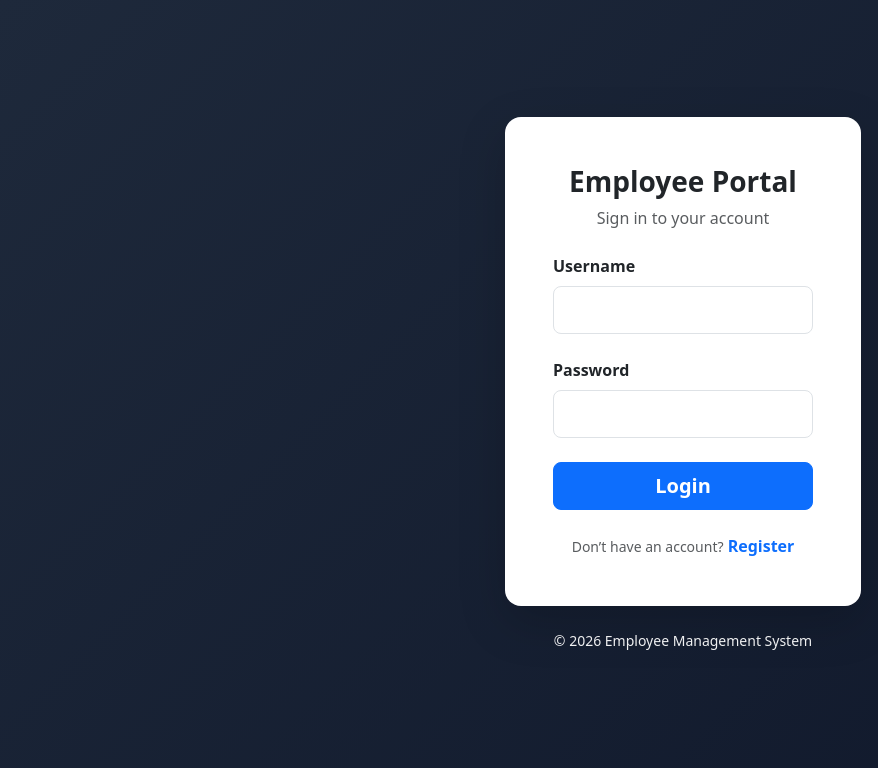
Scenario: Login Page › shows error message when login fails
In the field labelled "Username": (683, 310) left=553, top=286, right=813, bottom=334, type "wronguser"
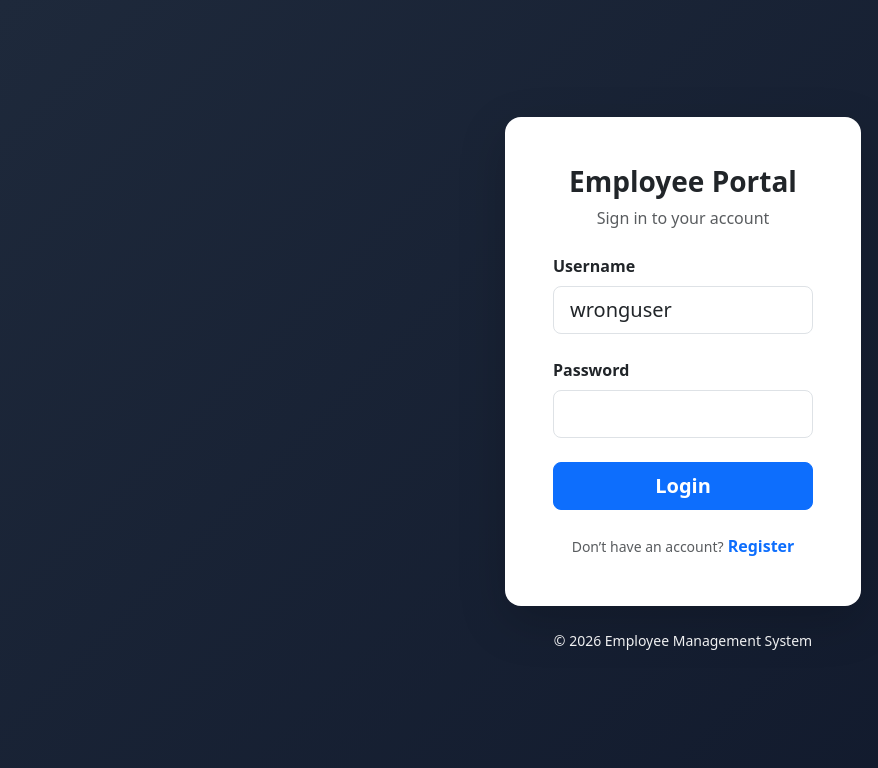
In the password field labelled "Password": (683, 414) left=553, top=390, right=813, bottom=438, type "wrongpass"
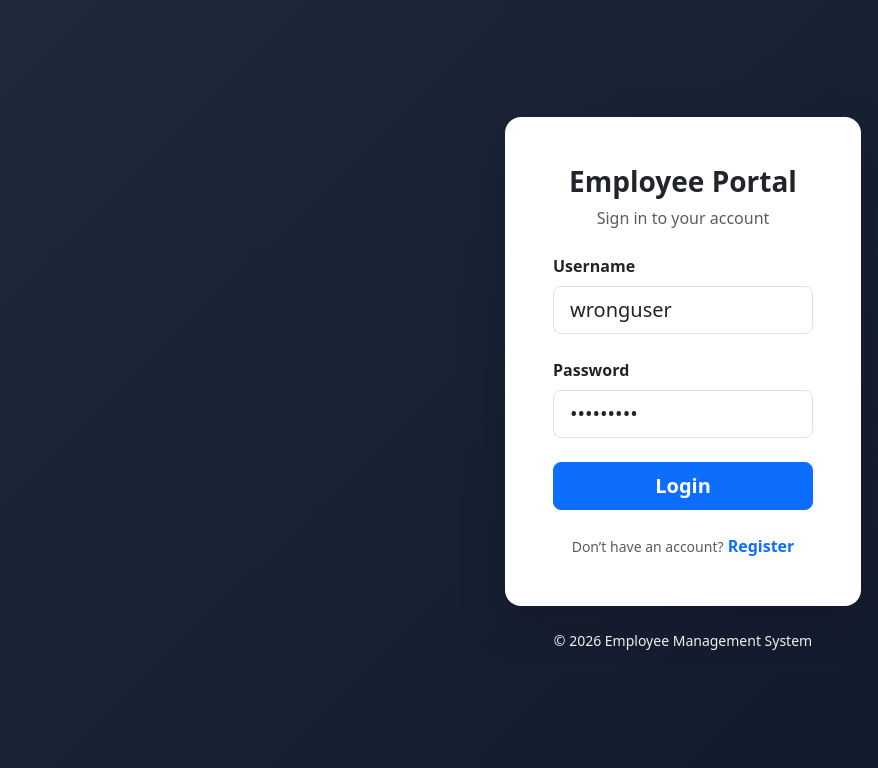
Click the button "Login": (683, 486) left=553, top=462, right=813, bottom=510
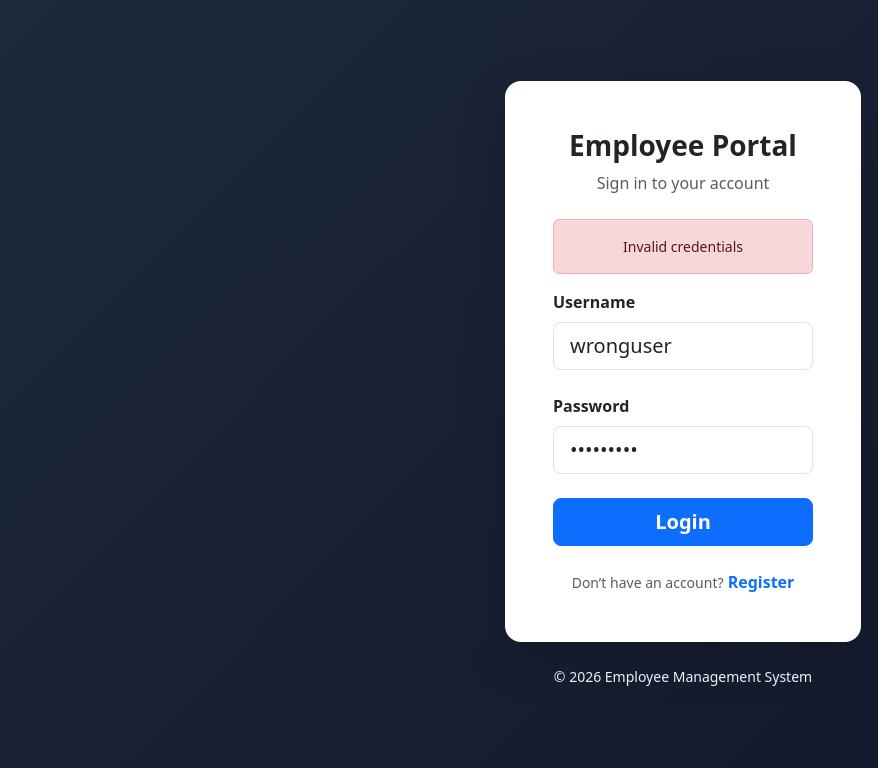
Expected: the text "Invalid credentials" is shown, left=553, top=219, right=813, bottom=274
